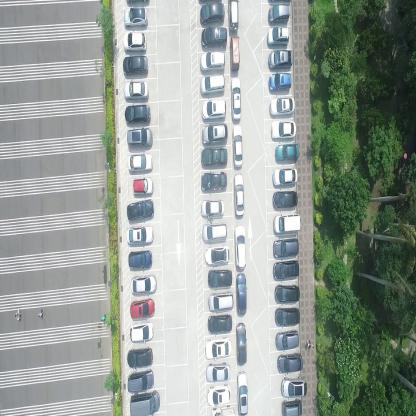car: (130, 390, 160, 415), (128, 368, 155, 393), (205, 335, 232, 358), (127, 198, 154, 221), (126, 127, 152, 150), (199, 73, 225, 96), (202, 122, 228, 145), (127, 224, 154, 246), (273, 258, 300, 280), (276, 352, 304, 373), (202, 221, 227, 244), (199, 50, 225, 72), (204, 243, 230, 265), (208, 290, 234, 312), (274, 211, 300, 233), (272, 166, 298, 188), (273, 235, 300, 256), (130, 321, 154, 344), (275, 327, 299, 350), (122, 30, 147, 52), (199, 1, 224, 23), (130, 297, 155, 319), (123, 81, 149, 102), (126, 153, 152, 174), (202, 171, 228, 192), (122, 7, 148, 28), (128, 346, 154, 367), (270, 118, 296, 139), (274, 282, 300, 303), (123, 105, 150, 125), (131, 274, 158, 294), (281, 376, 308, 396), (235, 322, 247, 367), (236, 369, 248, 414), (201, 147, 229, 166), (208, 266, 232, 288), (268, 47, 292, 69), (234, 224, 246, 268), (206, 384, 230, 406), (202, 98, 227, 119), (122, 56, 148, 76), (269, 95, 295, 115), (232, 124, 244, 167), (230, 73, 241, 119), (236, 271, 247, 317), (201, 197, 225, 218), (205, 362, 230, 382), (207, 314, 232, 334), (201, 27, 227, 46), (233, 172, 244, 216), (274, 143, 299, 162), (272, 190, 298, 208), (266, 24, 289, 44), (128, 250, 153, 268), (275, 306, 300, 324), (132, 175, 153, 196), (268, 4, 290, 24), (268, 71, 290, 90), (280, 397, 301, 415), (230, 34, 240, 70), (228, 0, 239, 31), (210, 404, 235, 415)
